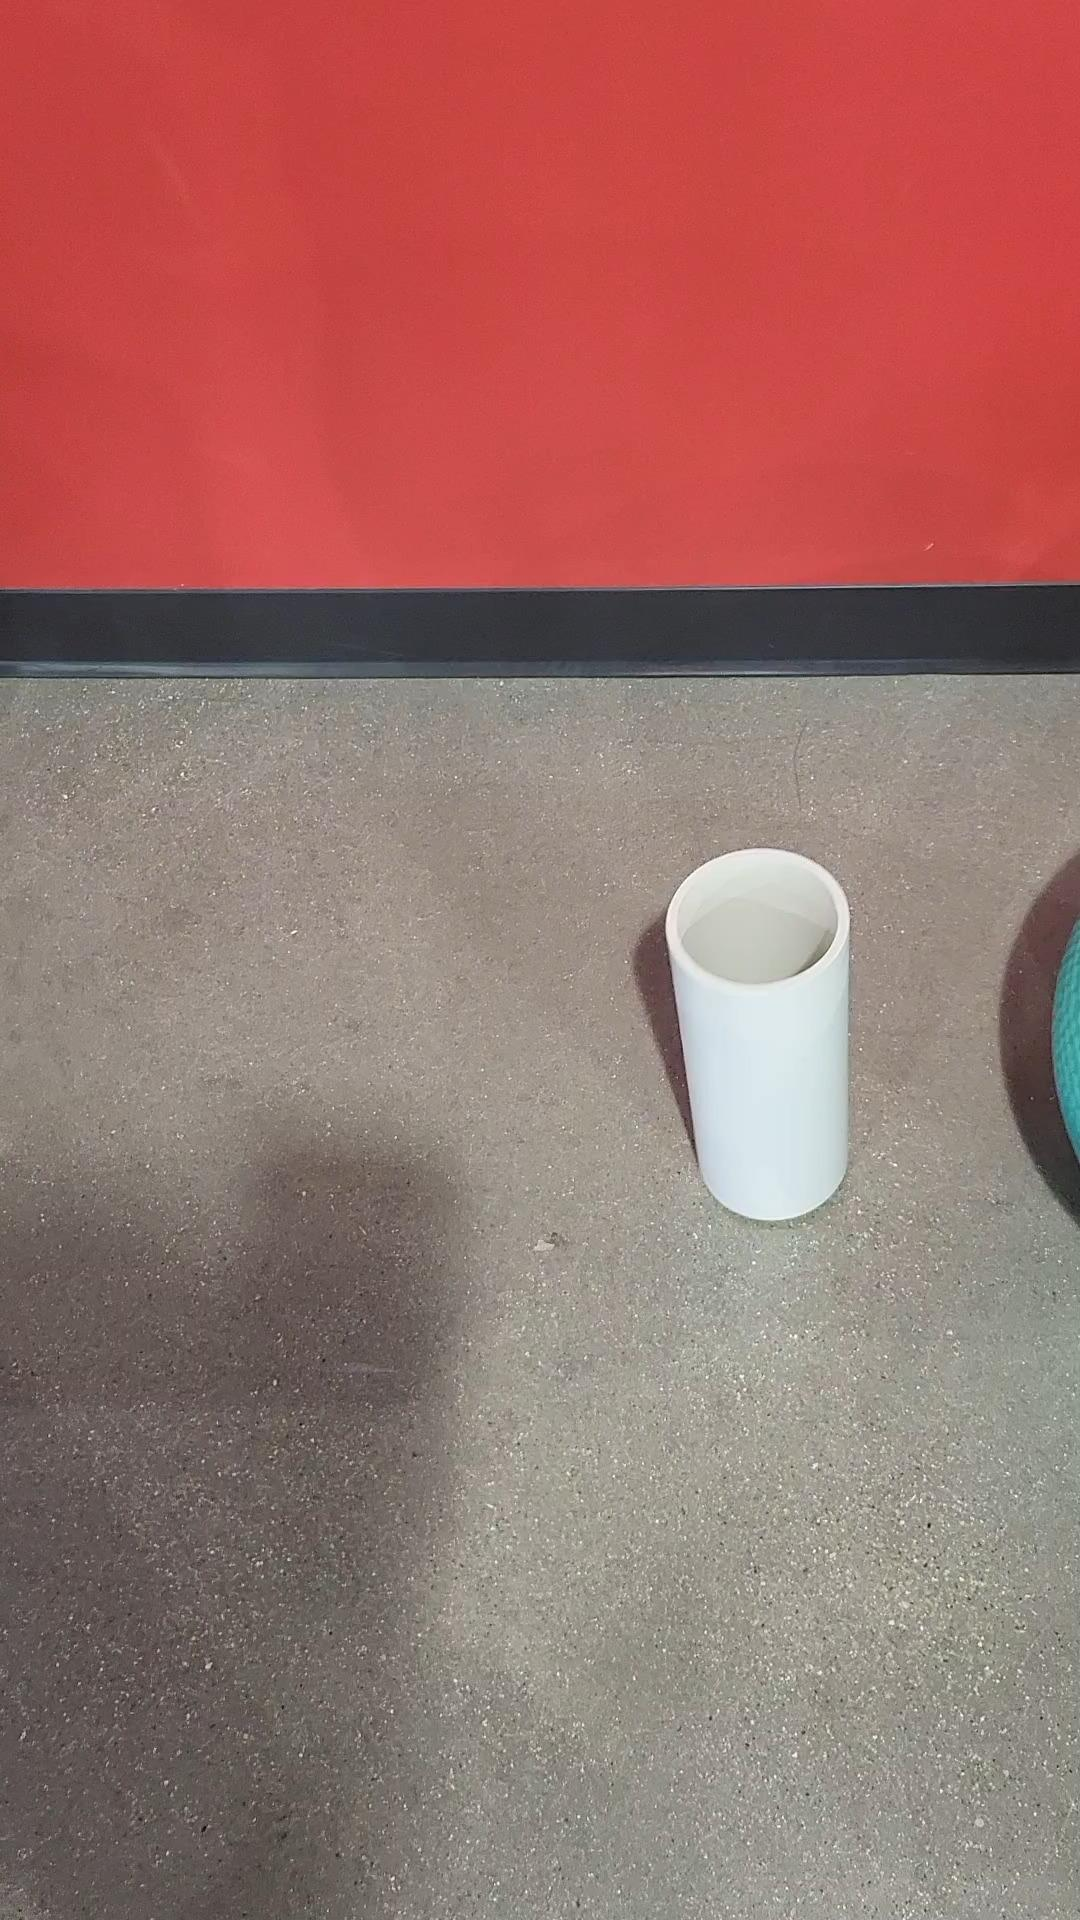algae: (1042, 913, 1079, 1168)
coral: (665, 845, 861, 1228)
